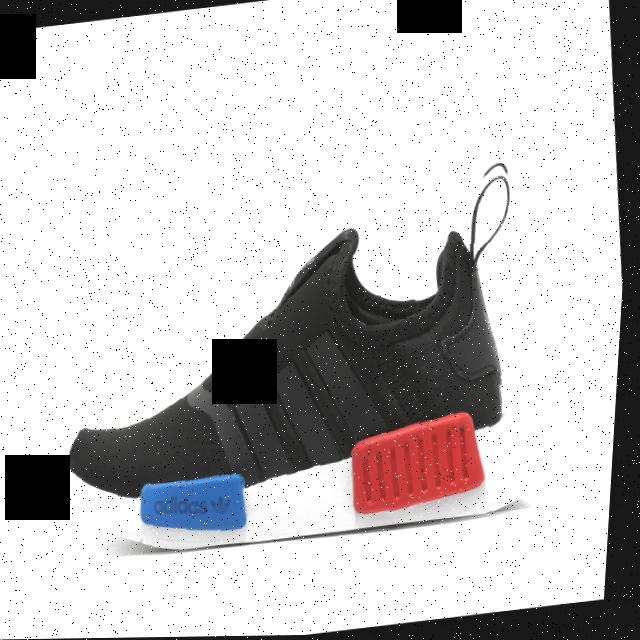shoe: (41, 157, 569, 563)
